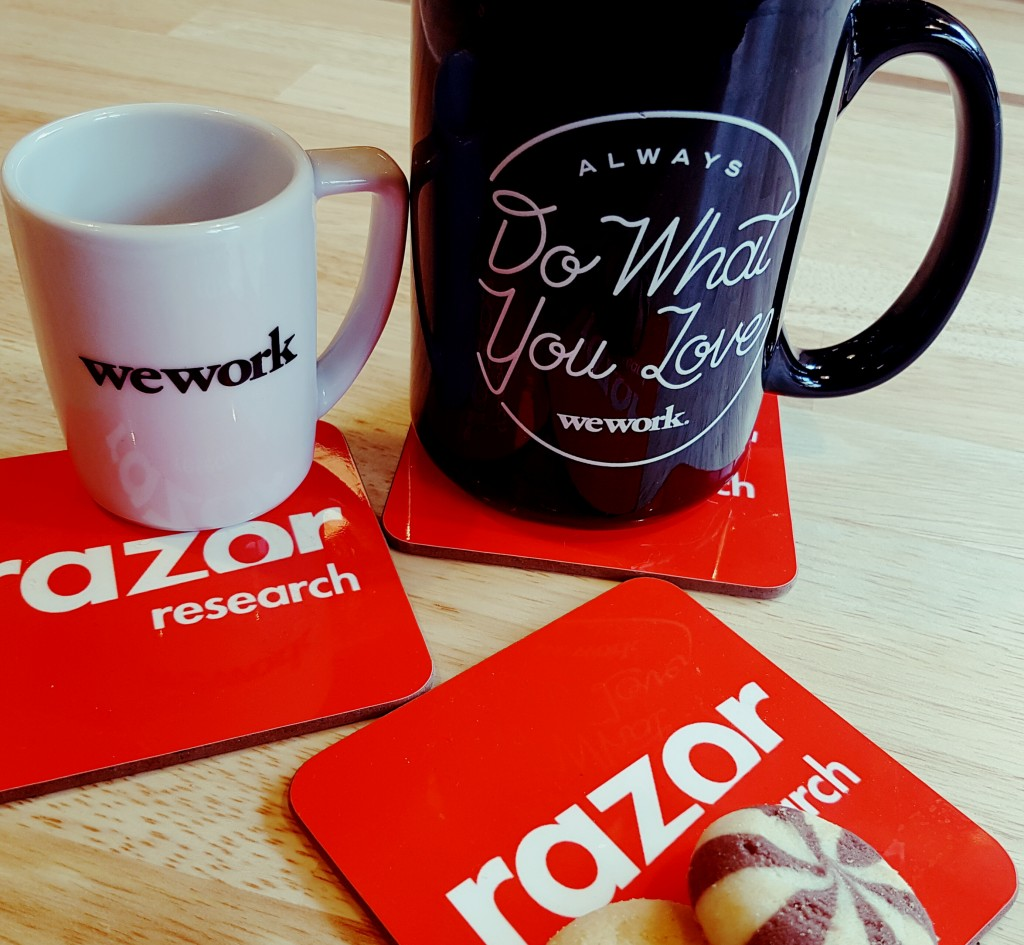wework: (75, 323, 300, 396), (554, 401, 685, 435)
